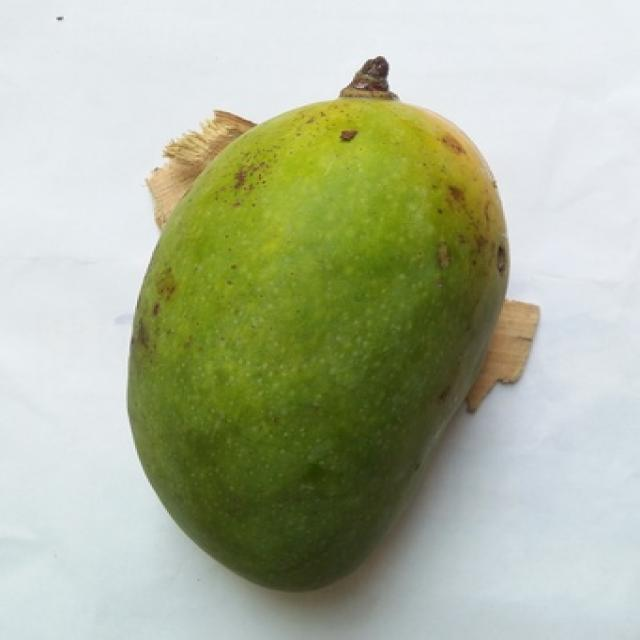Mango: (128, 58, 537, 590)
